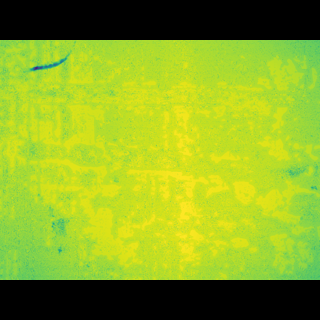Loch: (0, 130, 320, 248), (0, 103, 301, 126), (86, 72, 316, 102)
